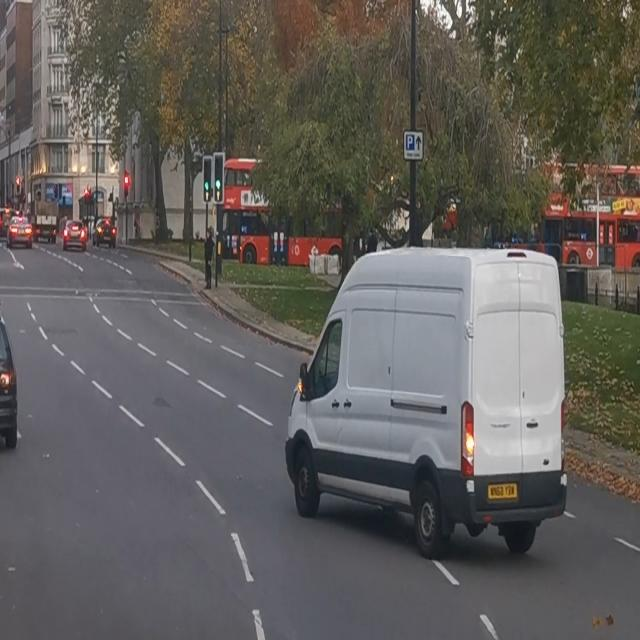Car: (276, 241, 572, 559), (62, 215, 87, 254), (8, 214, 34, 251), (92, 216, 117, 250)
